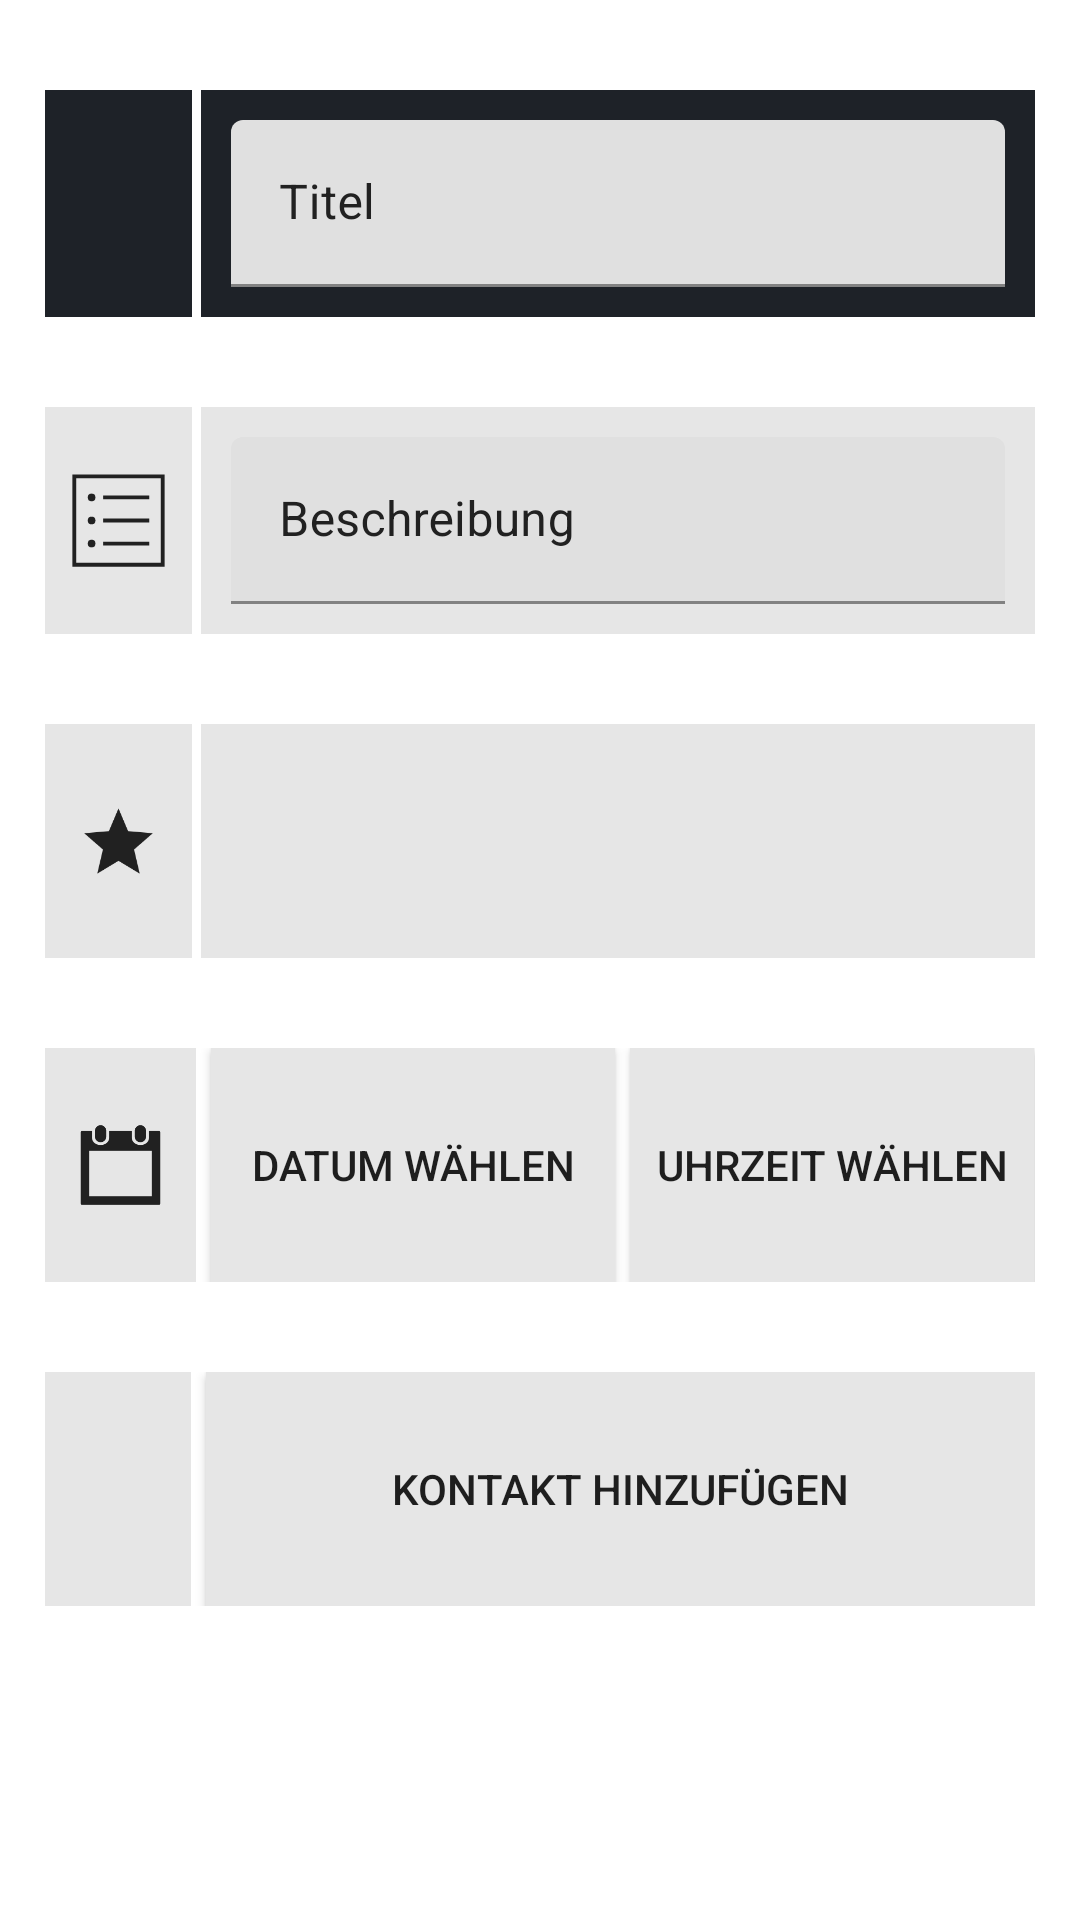

Icon bounding boxes for this 1080 × 1920 phone screenshot, format bbox=[x1, y1, x2, y2]:
description: bbox=[45, 407, 192, 634]
